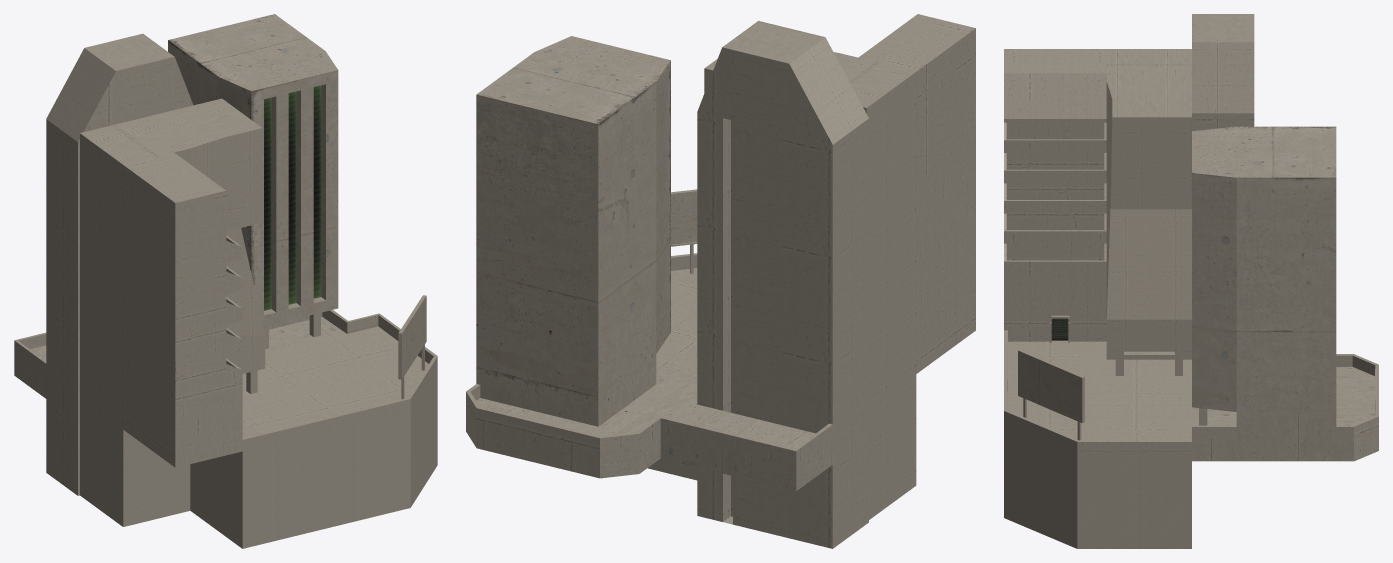
File: Blocking.fbx
The picture shows the model from 3 angles, left to right: view 1: azimuth 30°, elevation 25°; view 2: azimuth 150°, elevation 25°; view 3: azimuth 270°, elevation 25°; orthographic projection. The views are drawn at different scales.
Parts seen in each view (by area): view 1: Cube, Cube.004, Cube.006, Cube.002, Cube.007, Cube.010, Cube.003, Cube.011, Cube.009; view 2: Cube.002, Cube.006, Cube, Cube.003, Cube.004, Cube.009, Cube.011; view 3: Cube, Cube.006, Cube.004, Cube.003, Cube.002, Cube.010, Cube.011, Cube.009.
Boxes of the visible parts, left/top/right/bottom form: Cube: left=80, top=98, right=437, bottom=548; Cube.004: left=123, top=152, right=242, bottom=467; Cube.006: left=168, top=14, right=338, bottom=326; Cube.002: left=46, top=33, right=193, bottom=495; Cube.007: left=264, top=85, right=321, bottom=310; Cube.010: left=242, top=310, right=437, bottom=451; Cube.003: left=14, top=312, right=344, bottom=398; Cube.011: left=398, top=295, right=426, bottom=399; Cube.009: left=14, top=332, right=46, bottom=374; Cube.002: left=697, top=21, right=868, bottom=548; Cube.006: left=476, top=36, right=670, bottom=396; Cube: left=647, top=52, right=916, bottom=519; Cube.003: left=466, top=354, right=832, bottom=491; Cube.004: left=858, top=14, right=975, bottom=373; Cube.009: left=466, top=384, right=832, bottom=464; Cube.011: left=671, top=189, right=697, bottom=273; Cube: left=1004, top=49, right=1191, bottom=548; Cube.006: left=1192, top=126, right=1336, bottom=411; Cube.004: left=1004, top=49, right=1106, bottom=341; Cube.003: left=1192, top=366, right=1378, bottom=461; Cube.002: left=1192, top=14, right=1254, bottom=131; Cube.010: left=1004, top=330, right=1236, bottom=452; Cube.011: left=1018, top=349, right=1084, bottom=440; Cube.009: left=1336, top=354, right=1378, bottom=437.
Size of the model in its own units: 2657 by 3498 by 2907.
Materials: 3 (3 with a texture image).
